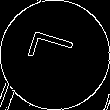L_E: (27, 33, 83, 77)
